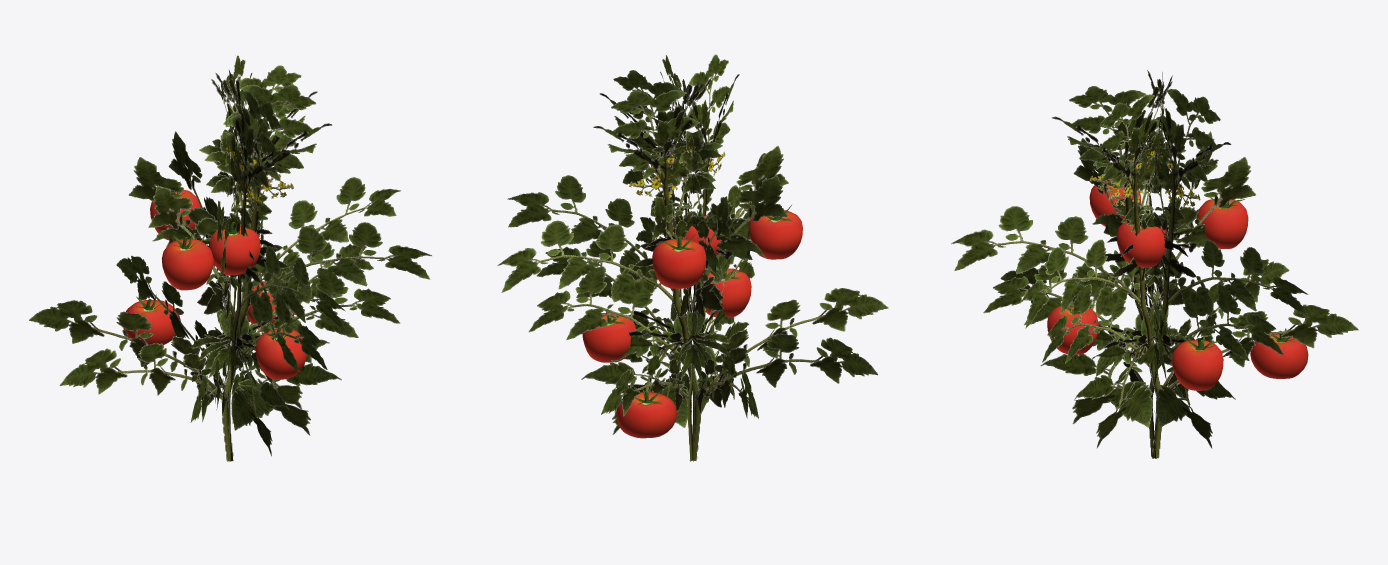
The model's file is tomatera cg.fbx.
The picture shows the model from 3 angles, left to right: view 1: azimuth 30°, elevation 25°; view 2: azimuth 150°, elevation 25°; view 3: azimuth 270°, elevation 25°; orthographic projection.
Visible parts, largest first — view 1: Tomatera; view 2: Tomatera; view 3: Tomatera.
Part boxes in pixels (box(x1,y1,x2,y2)): Tomatera: box(29, 55, 431, 461); Tomatera: box(497, 54, 888, 461); Tomatera: box(951, 70, 1358, 458).
Size of the model in its own units: 82.23 by 82.23 by 82.23.
2 materials, 2 textured.
